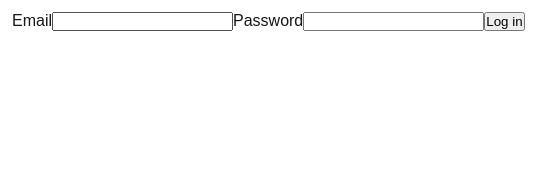
Test: LoginPage › shows an error message on failed login
The width and height of the screenshot is (542, 172).
Type "a@b.com" into the field labelled "Email".
click(142, 22); type("a@b.com")  # box left=52, top=12, right=233, bottom=31
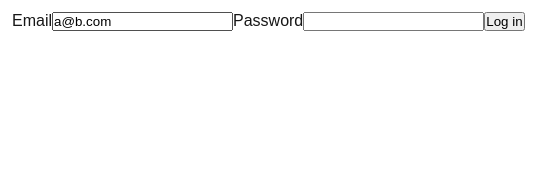
Type "wrong" into the password field labelled "Password".
click(394, 22); type("wrong")  # box left=303, top=12, right=484, bottom=31
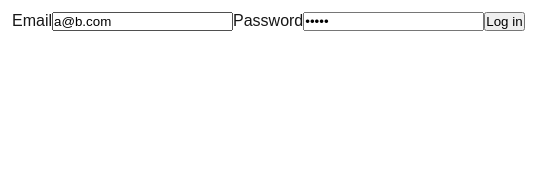
Click the button "Log in".
click(504, 22)  # box left=484, top=12, right=525, bottom=31
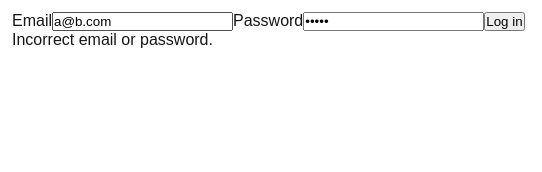
Check: the text "Incorrect email or password." is shown, box left=12, top=31, right=213, bottom=48
